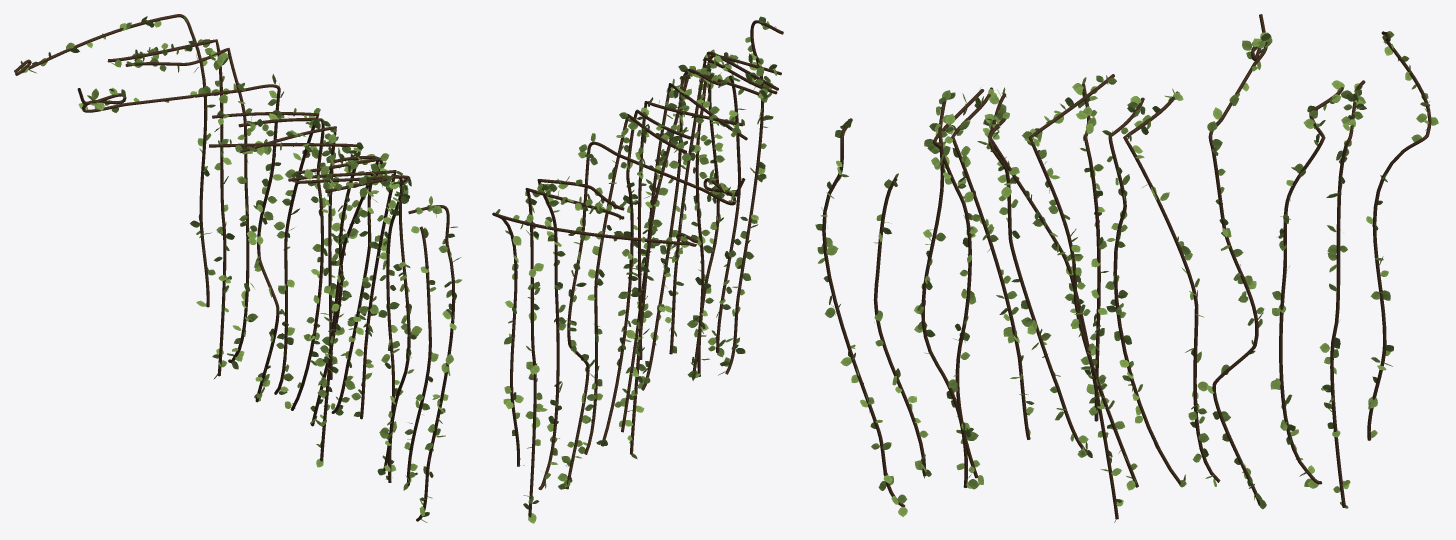
The model's file is Vines 1.fbx.
The picture shows the model from 3 angles, left to right: view 1: azimuth 30°, elevation 25°; view 2: azimuth 150°, elevation 25°; view 3: azimuth 270°, elevation 25°; orthographic projection. The views are drawn at different scales.
Parts seen in each view (by area): view 1: BezierCurve.001; view 2: BezierCurve.001; view 3: BezierCurve.001.
Boxes of the visible parts, left/top/right/bottom form: BezierCurve.001: left=14, top=14, right=455, bottom=521; BezierCurve.001: left=492, top=20, right=783, bottom=517; BezierCurve.001: left=822, top=14, right=1431, bottom=519.
Size of the model in its own units: 214 by 384 by 525.
